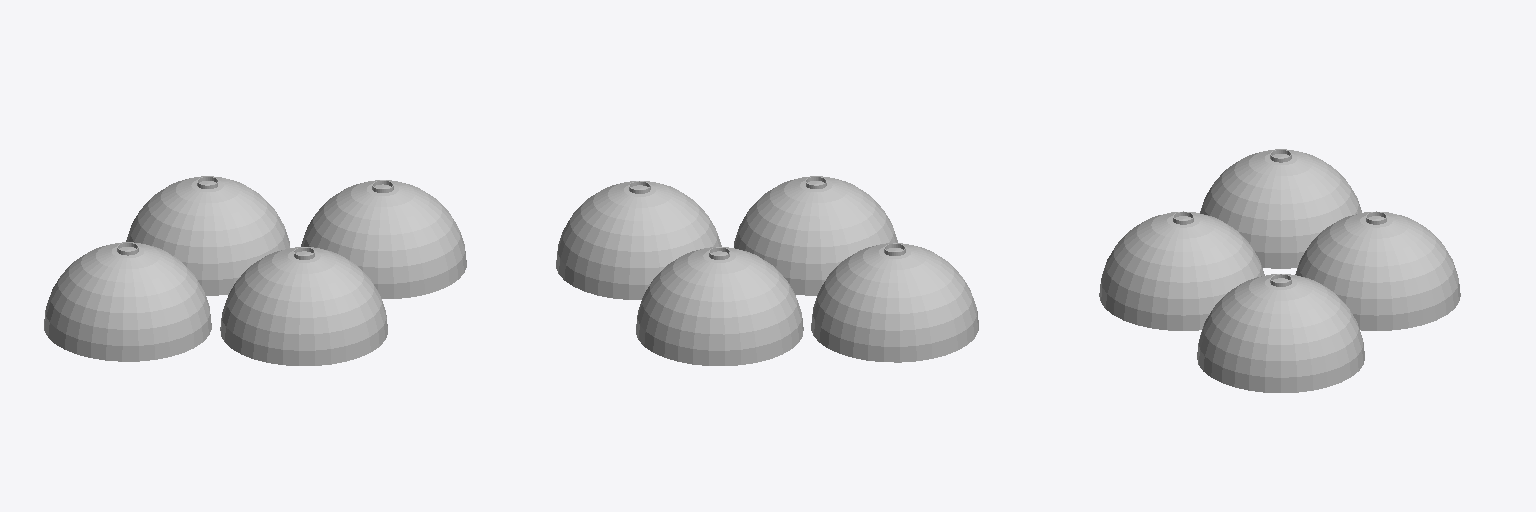
File: food_main.obj
3 views of the same model, side by side, from view 1: azimuth 30°, elevation 25°; view 2: azimuth 150°, elevation 25°; view 3: azimuth 270°, elevation 25° (orthographic).
Parts seen in each view (by area): view 1: Untitled_Untitled.008; view 2: Untitled_Untitled.008; view 3: Untitled_Untitled.008.
Boxes of the visible parts, x1=… form: Untitled_Untitled.008: x1=44, y1=176, x2=466, y2=365; Untitled_Untitled.008: x1=556, y1=176, x2=978, y2=365; Untitled_Untitled.008: x1=1099, y1=149, x2=1460, y2=392.
Size of the model in its own units: 1.91 by 0.361 by 1.49.